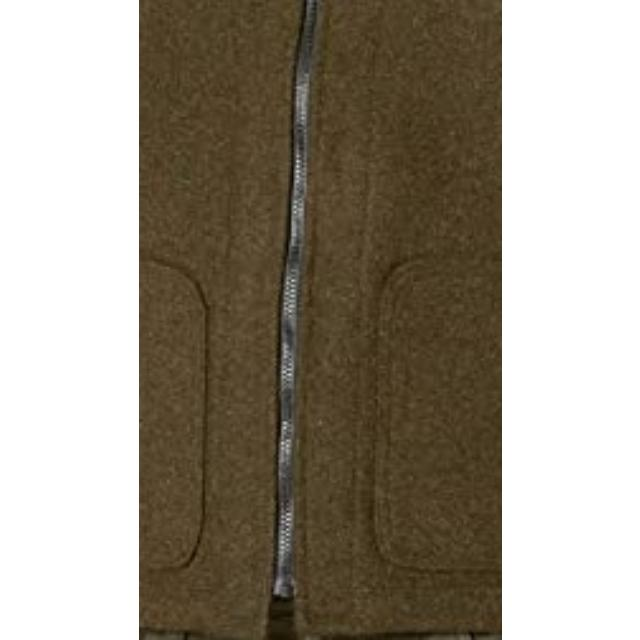wool: (138, 0, 502, 624)
